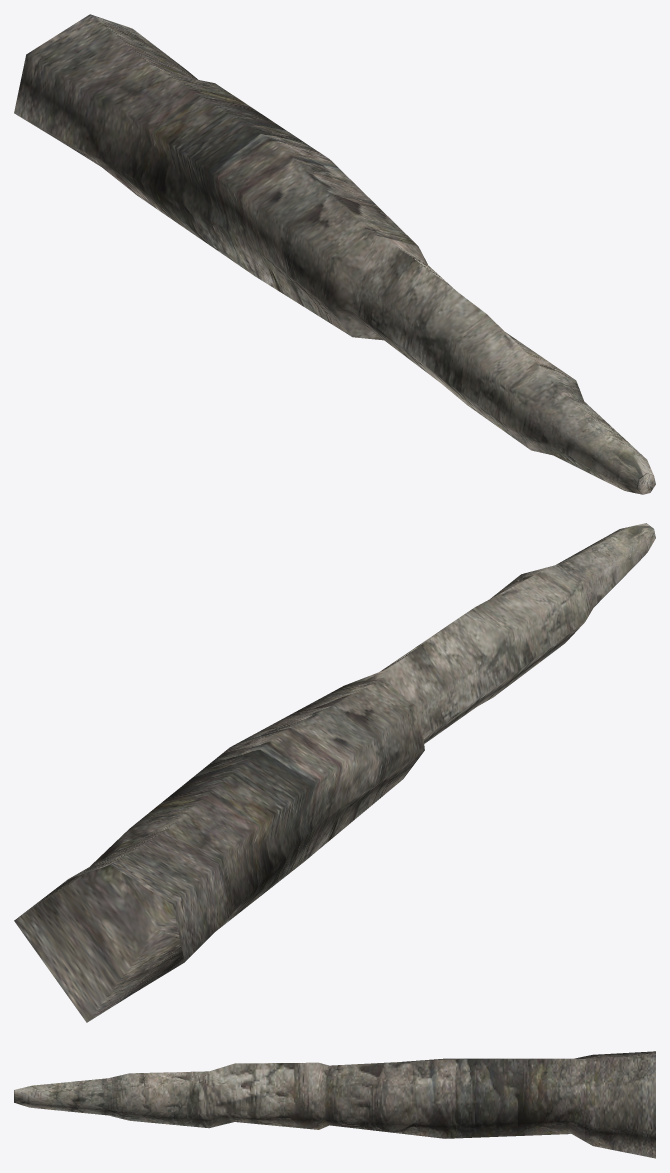
File: tdr_h_stag_melted_c.obj
3 renders of one model, top to bottom at view 1: azimuth 30°, elevation 25°; view 2: azimuth 150°, elevation 25°; view 3: azimuth 270°, elevation 25°, orthographic. The views are drawn at different scales.
Parts seen in each view (by area): view 1: tdr_h_stag_melted_c; view 2: tdr_h_stag_melted_c; view 3: tdr_h_stag_melted_c.
Part boxes in pixels (<box>): tdr_h_stag_melted_c: <box>14,14,655,494</box>; tdr_h_stag_melted_c: <box>14,523,655,1022</box>; tdr_h_stag_melted_c: <box>14,1051,655,1158</box>.
Bounding box in the file's own units: 444 × 406 × 2438.
1 material, 1 textured.
